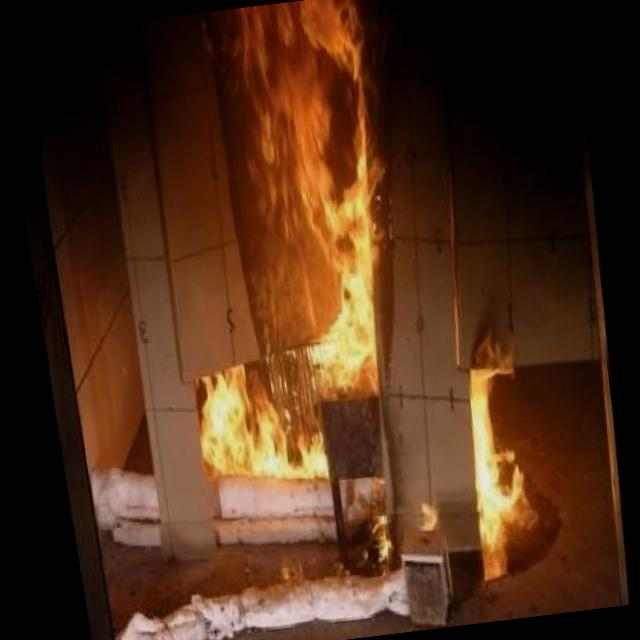fire: (120, 0, 439, 540), (402, 292, 580, 600)
